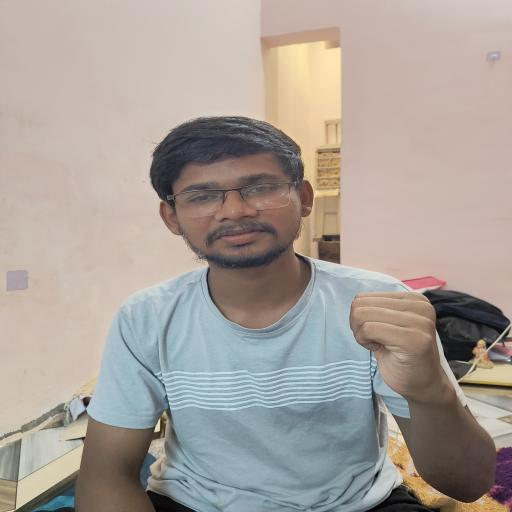wait: (332, 279, 484, 412)
